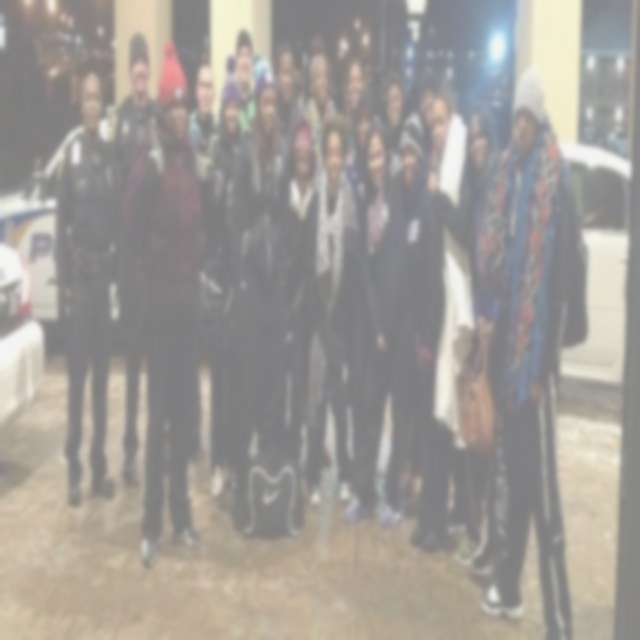pessoa: (478, 61, 578, 638), (124, 31, 210, 575), (428, 99, 508, 582), (53, 61, 127, 514), (424, 93, 484, 566), (342, 116, 409, 532), (228, 51, 290, 455), (396, 105, 450, 554), (300, 108, 360, 507), (105, 28, 155, 486), (207, 52, 244, 500), (277, 119, 317, 496), (184, 60, 222, 263), (296, 45, 339, 170), (268, 40, 302, 198), (347, 82, 378, 207), (416, 64, 444, 178), (232, 26, 260, 138), (382, 68, 408, 170), (343, 57, 365, 156)
